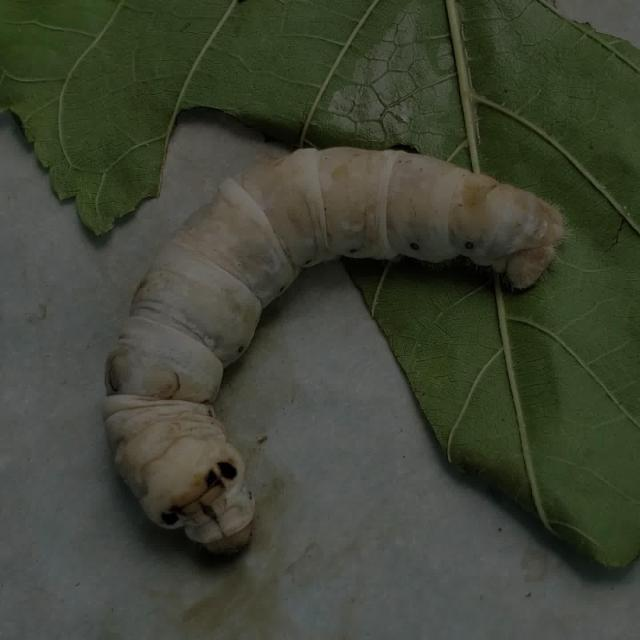Grasserie: (95, 131, 578, 569)
